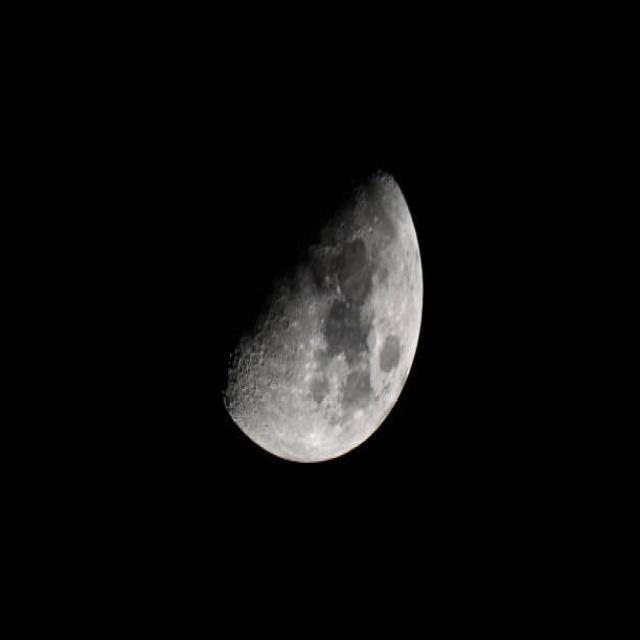moon: (182, 148, 422, 462)
